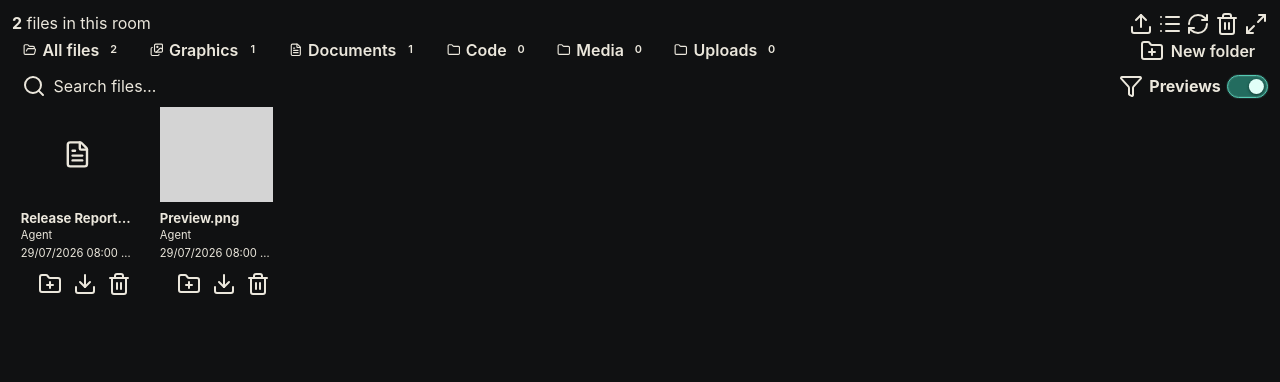
Scenario: AgentFilesDock › filters filenames and file types locally and clears an empty search
The width and height of the screenshot is (1280, 382).
Expected: the text "Release Report.pdf" is shown, [21,210,134,226]
Type " REPORT " into the search field named "Search Agent Files" at (581, 86), box [54,76,1108,96]
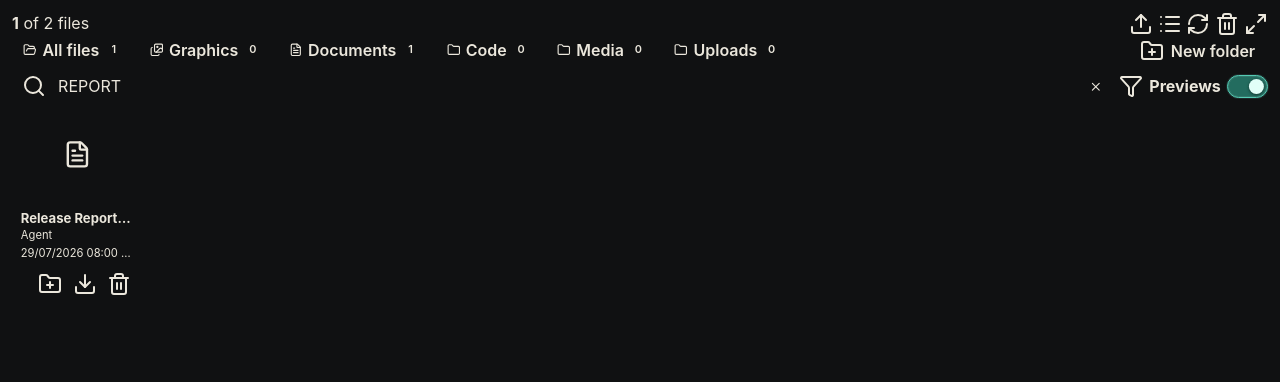
Expected: the text "Preview.png" is gone
Expected: the element with class "dock-kit-summary" reads "1 of 2 files", [12,13,89,33]
Click the button named "Filters" at (1131, 86), box [1119,74,1143,98]
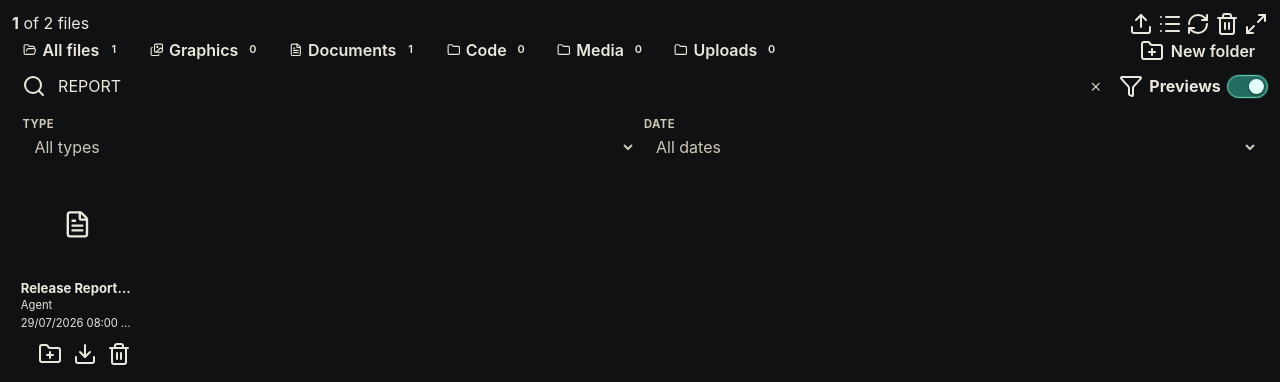
Select "Images" in the dropdown named "Filter Agent Files by type" at (329, 147), box [22,136,636,158]
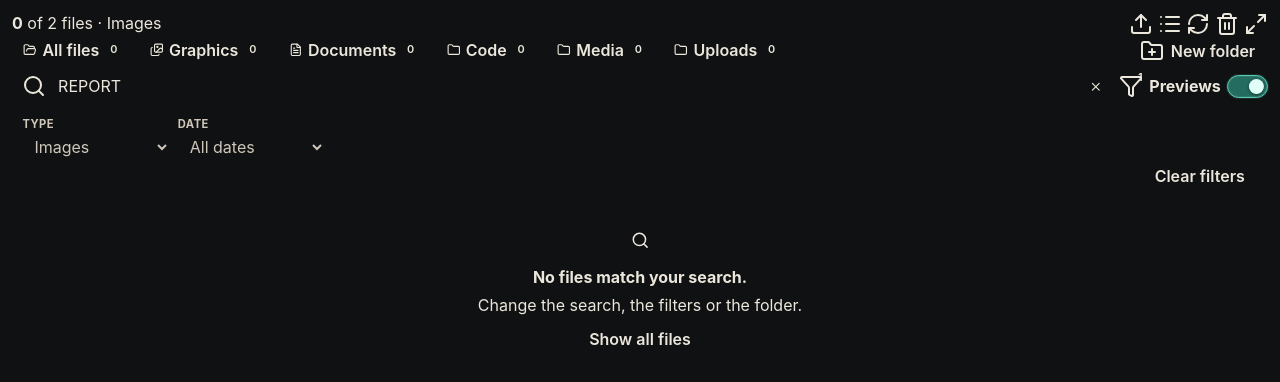
Expected: the text "No files match your search." is shown, [533,267,747,287]
Expected: the element with class "dock-kit-summary" reads "0 of 2 files · Images", [12,13,162,33]
Expected: the button named "Filters (1 active)" is shown, [1119,74,1143,98]
Click the button "Show all files" at (640, 339), box [576,329,704,349]
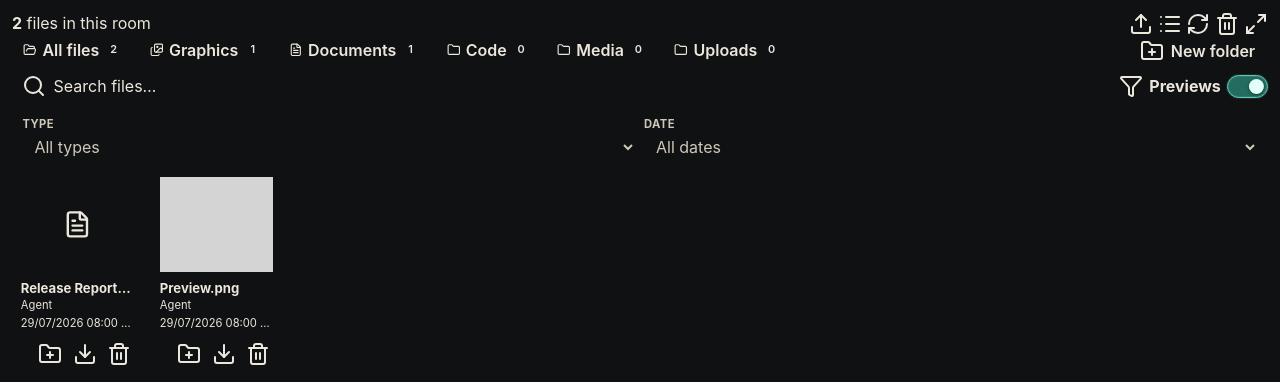
Expected: the button named "Filters" is shown, [1119,74,1143,98]
Expected: the text "Preview.png" is shown, [160,280,240,296]
Expected: the text "Release Report.pdf" is shown, [21,280,134,296]
